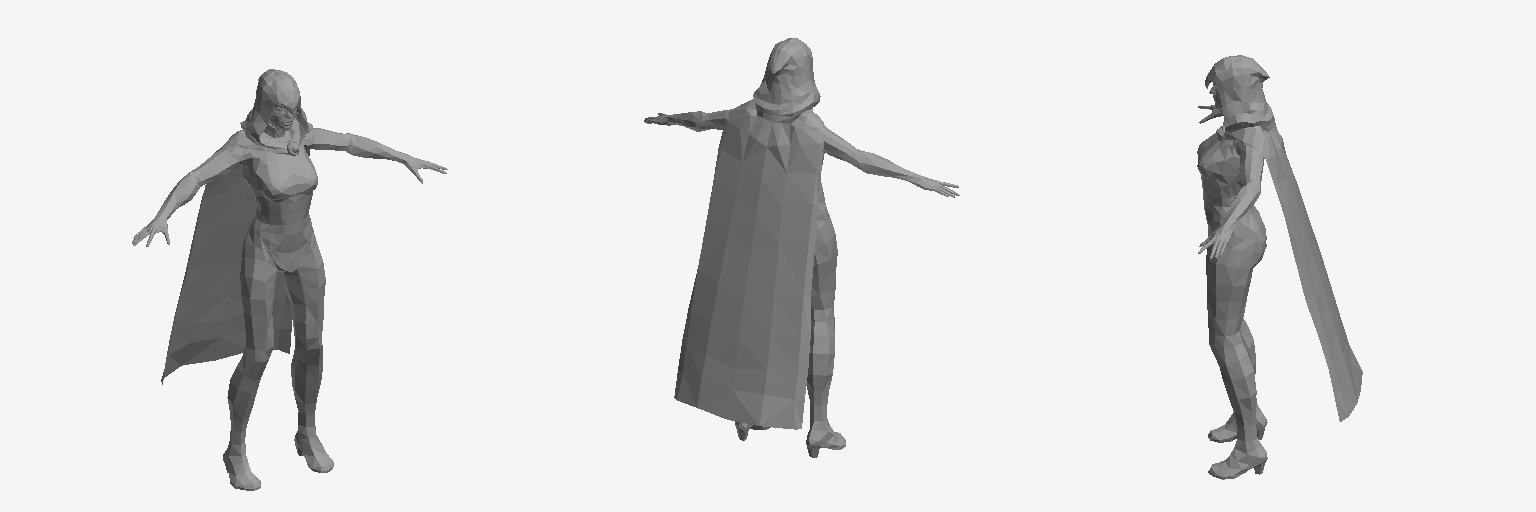
The model's file is INJ_iOS_HERO_Rachel_Roth_Raven_Teen_Titans.obj.
The picture shows the model from 3 angles: view 1: azimuth 30°, elevation 25°; view 2: azimuth 150°, elevation 25°; view 3: azimuth 270°, elevation 25°; orthographic projection.
Size of the model in its own units: 1.51 by 1.83 by 0.6891.